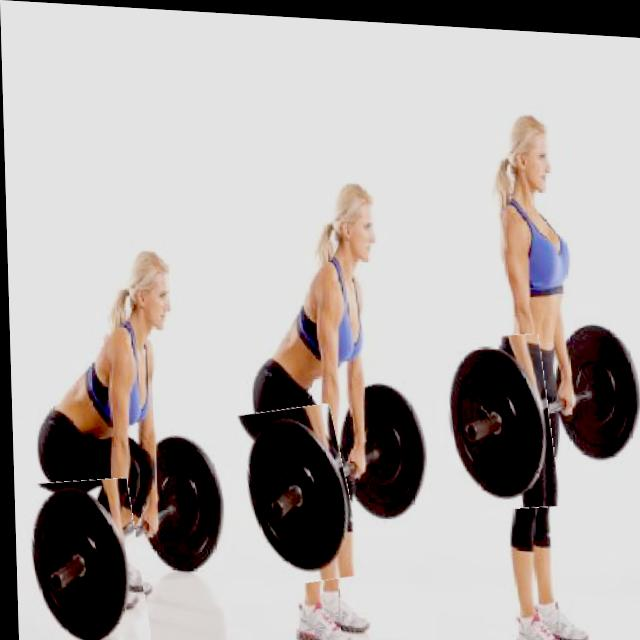barbell: (233, 400, 357, 586), (439, 327, 556, 508), (18, 474, 143, 640)
